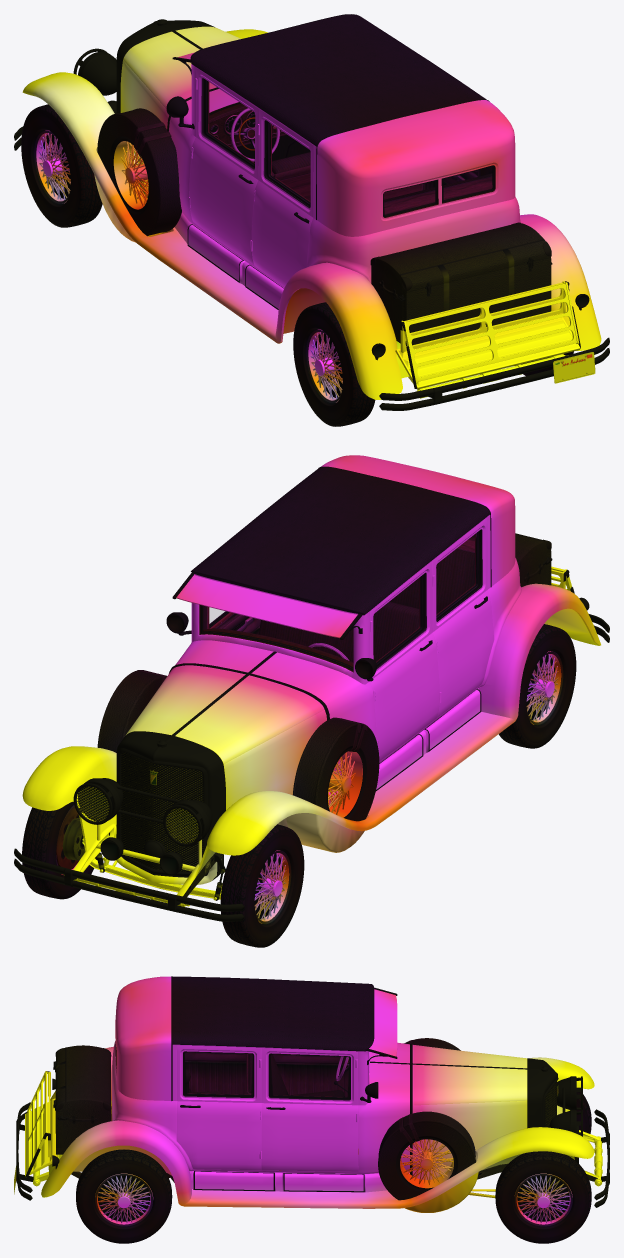
Rendered from btype.glb.
The picture shows the model from 3 angles, top to bottom: view 1: azimuth 30°, elevation 25°; view 2: azimuth 150°, elevation 25°; view 3: azimuth 270°, elevation 25°; orthographic projection. The views are drawn at different scales.
Visible parts, largest first — view 1: bodyshell, extra_3, chassis, door_dside_f, extra_1, wheel_lf, door_dside_r, wheel_lr, bonnet, bumper_r, window_lf, windscreen_r (+2 smaller); view 2: bodyshell, chassis, bonnet, door_dside_f, wheel_lf, door_dside_r, extra_1, wheel_lr, bumper_f, wheel_rf, window_lf, extra_2 (+6 smaller); view 3: bodyshell, door_pside_f, door_pside_r, wheel_rr, wheel_rf, extra_2, bonnet, extra_3, window_rf, chassis, window_rr, door_dside_f (+5 smaller).
Boxes of the visible parts, x1=… form: bodyshell: x1=22, y1=14, x2=601, y2=399; extra_3: x1=370, y1=222, x2=552, y2=346; chassis: x1=94, y1=102, x2=568, y2=398; door_dside_f: x1=189, y1=68, x2=258, y2=265; extra_1: x1=97, y1=108, x2=181, y2=236; wheel_lf: x1=21, y1=104, x2=102, y2=227; door_dside_r: x1=250, y1=109, x2=313, y2=287; wheel_lr: x1=293, y1=302, x2=375, y2=426; bonnet: x1=123, y1=26, x2=240, y2=108; bumper_r: x1=379, y1=337, x2=609, y2=410; window_lf: x1=204, y1=79, x2=254, y2=167; windscreen_r: x1=383, y1=165, x2=494, y2=216; bodyshell: x1=22, y1=455, x2=600, y2=906; chassis: x1=72, y1=534, x2=598, y2=897; bonnet: x1=125, y1=666, x2=323, y2=764; door_dside_f: x1=370, y1=561, x2=439, y2=761; wheel_lf: x1=220, y1=824, x2=304, y2=947; door_dside_r: x1=432, y1=518, x2=493, y2=717; extra_1: x1=293, y1=717, x2=379, y2=821; wheel_lr: x1=499, y1=624, x2=576, y2=748; bumper_f: x1=14, y1=848, x2=244, y2=921; wheel_rf: x1=22, y1=802, x2=100, y2=899; window_lf: x1=374, y1=574, x2=424, y2=665; extra_2: x1=97, y1=670, x2=166, y2=752; bodyshell: x1=25, y1=976, x2=602, y2=1208; door_pside_f: x1=261, y1=1048, x2=358, y2=1171; door_pside_r: x1=177, y1=1045, x2=261, y2=1170; wheel_rr: x1=76, y1=1149, x2=172, y2=1243; wheel_rf: x1=495, y1=1151, x2=591, y2=1243; extra_2: x1=378, y1=1111, x2=475, y2=1200; bonnet: x1=413, y1=1045, x2=527, y2=1105; extra_3: x1=53, y1=1045, x2=111, y2=1154; window_rf: x1=269, y1=1053, x2=350, y2=1099; chassis: x1=33, y1=1044, x2=597, y2=1212; window_rr: x1=183, y1=1051, x2=253, y2=1096; door_dside_f: x1=273, y1=1054, x2=349, y2=1097.
Size of the model in its own units: 1.77 by 1.84 by 4.99.
19 materials, 19 textured.
